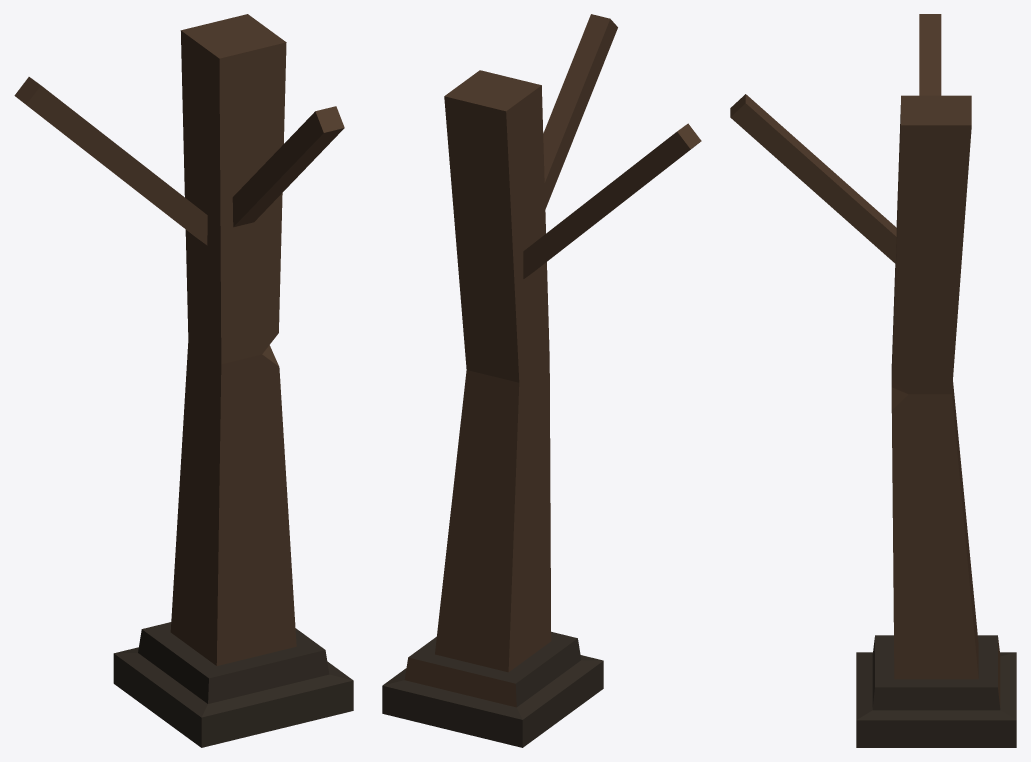
File: Pillar_4.fbx
3 views of the same model, side by side, from view 1: azimuth 30°, elevation 25°; view 2: azimuth 150°, elevation 25°; view 3: azimuth 270°, elevation 25° (orthographic). The views are drawn at different scales.
Parts seen in each view (by area): view 1: Pillar_4; view 2: Pillar_4; view 3: Pillar_4.
Boxes of the visible parts, box(x1,y1,x2,y2) form: Pillar_4: box(14, 14, 353, 747); Pillar_4: box(382, 14, 701, 747); Pillar_4: box(730, 14, 1016, 747).
Bounding box in the file's own units: 105 × 113 × 246.
